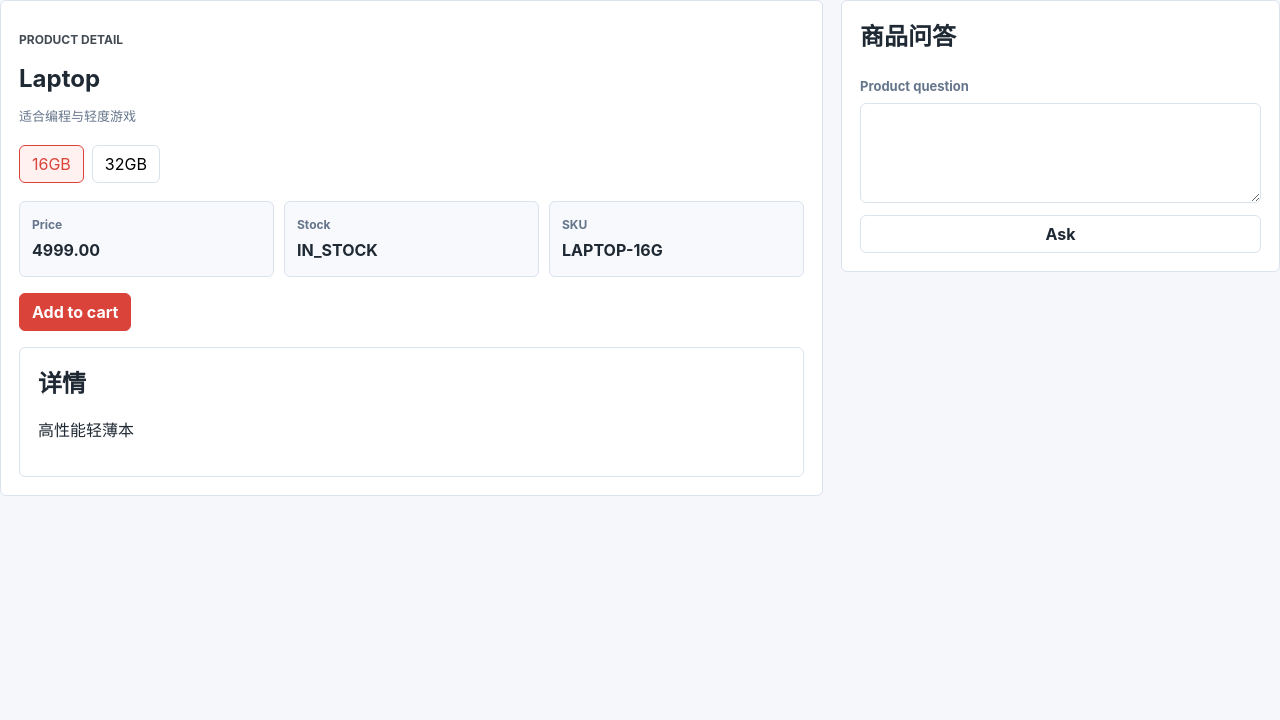
Product pages › shows knowledge sources and no-evidence fallback
In the text box labelled "Product question": (1060, 152) [860,102,1261,202], type "保修多久"
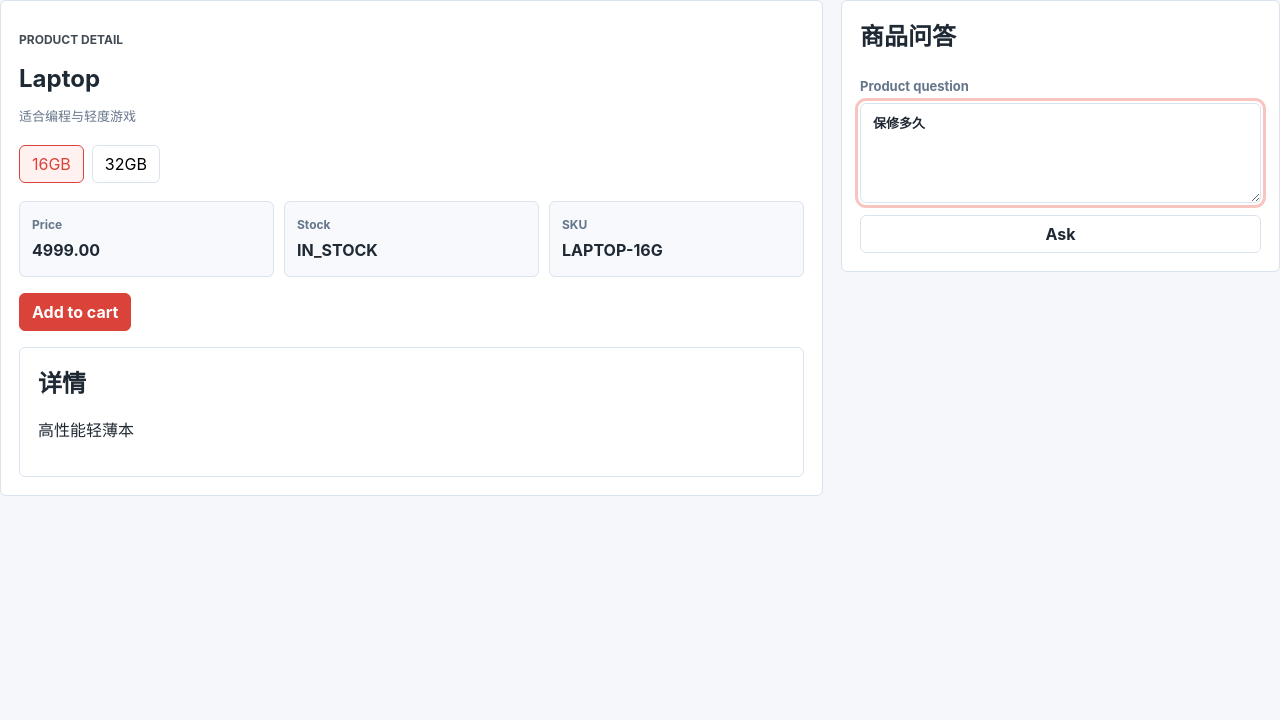
Click the button "Ask": (1060, 234) [860,214,1261,252]
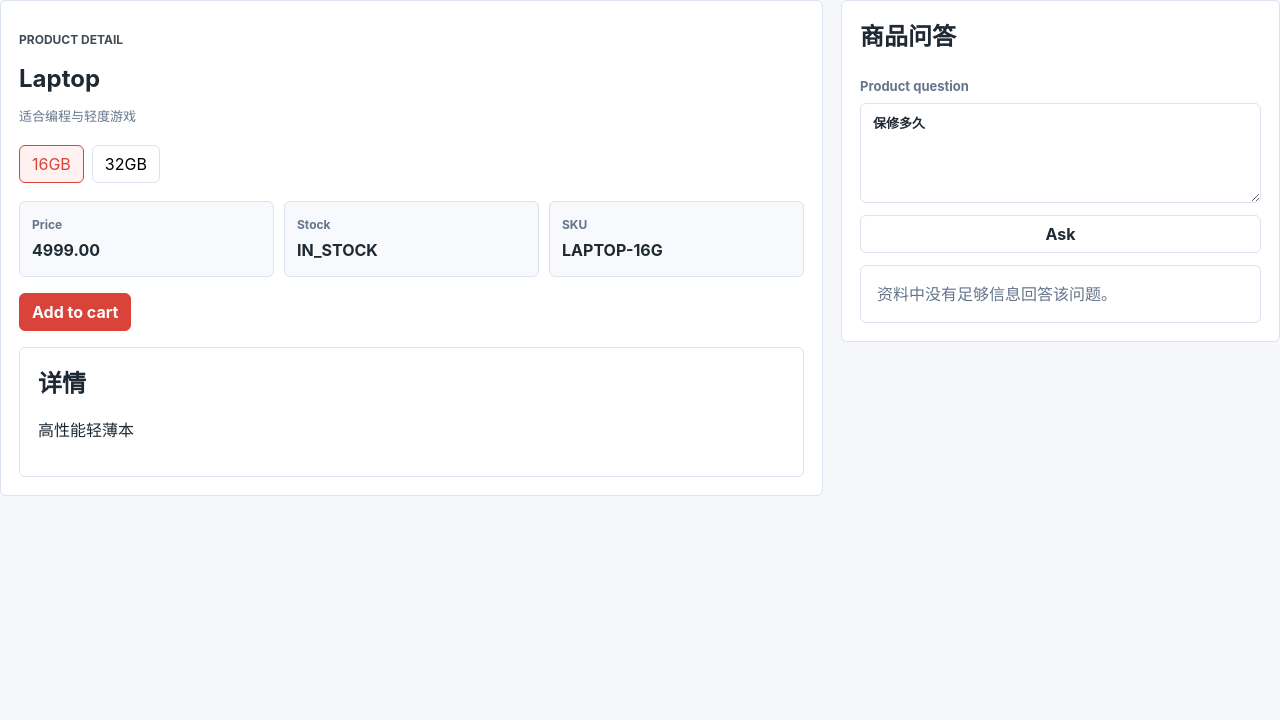
Check: the text "资料中没有足够信息回答该问题。" is shown, box [860,264,1261,322]
